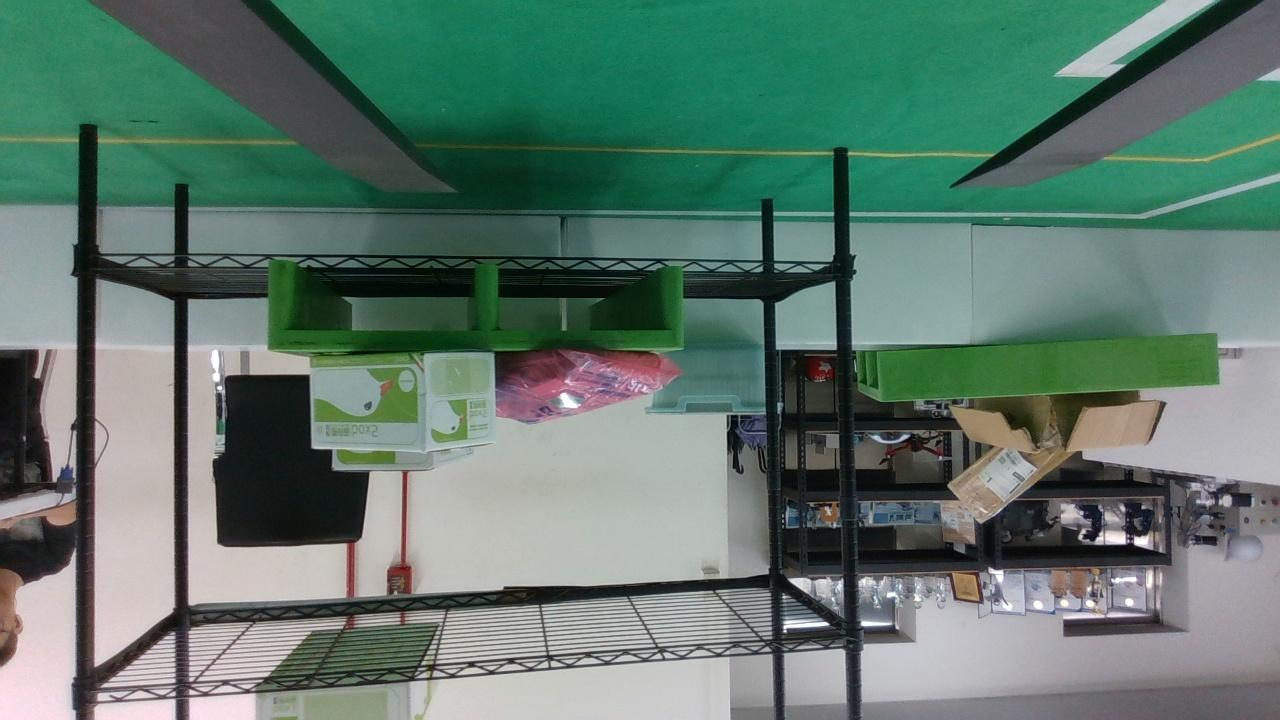Pallet: (268, 259, 684, 354)
